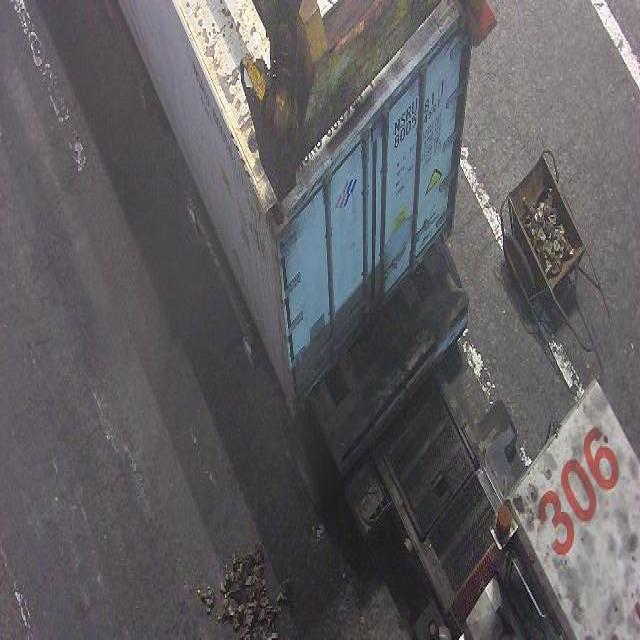container_number: (392, 68, 452, 150)
